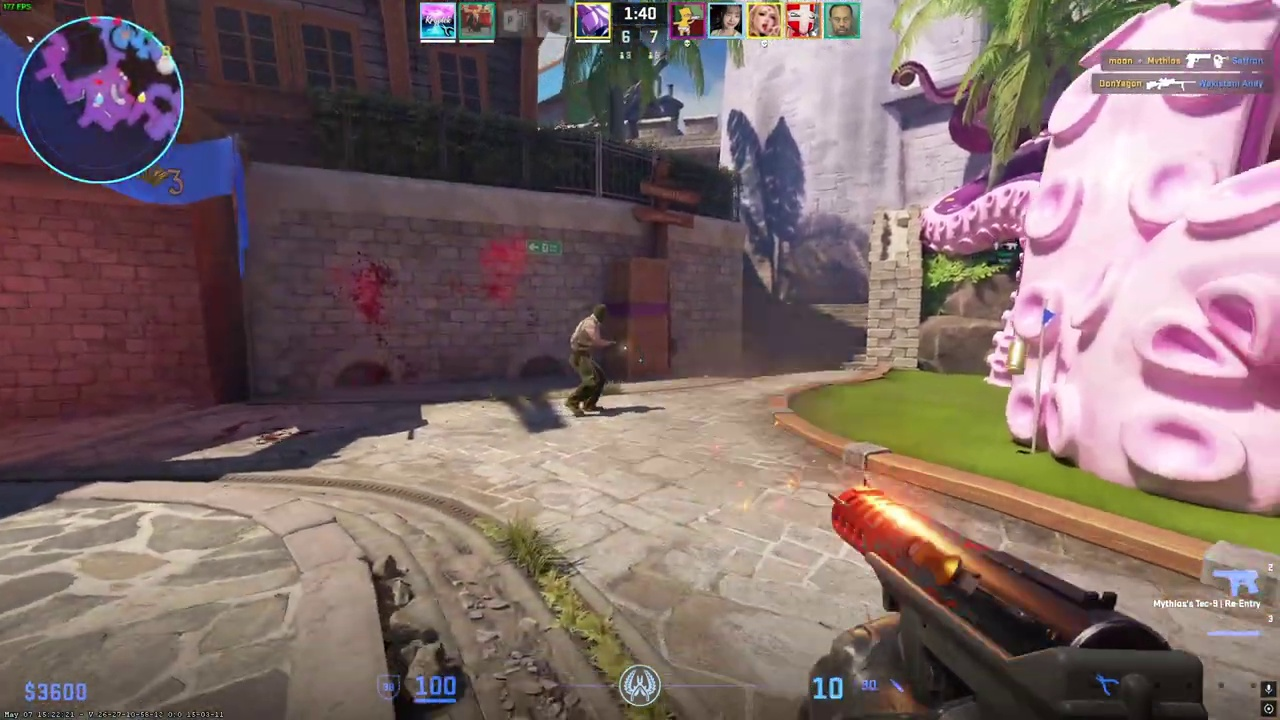Terrorist: (563, 301, 614, 418)
